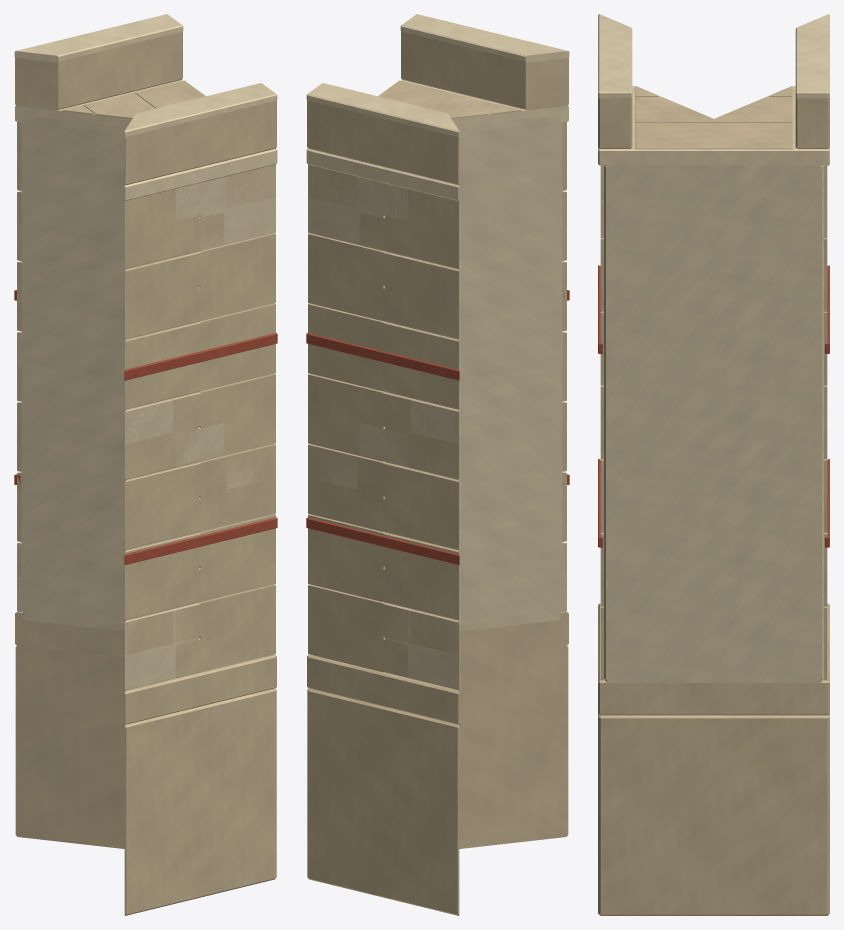
Rendered from verona_gate_crossing_diagonal_link.glb.
The picture shows the model from 3 angles, left to right: view 1: azimuth 30°, elevation 25°; view 2: azimuth 150°, elevation 25°; view 3: azimuth 270°, elevation 25°; orthographic projection. The views are drawn at different scales.
Visible parts, largest first — view 1: Travertine.001, Limewash.001, Travertine.002, Limestone_trim.001, Limewash.002, Pompeian_red.001; view 2: Travertine.001, Limewash.001, Travertine.002, Limestone_trim.001, Limewash.002, Pompeian_red.001; view 3: Limewash.001, Travertine.001, Limestone_trim.001, Travertine.002, Pompeian_red.001, Limewash.002.
Boxes of the visible parts, x1=… form: Travertine.001: x1=15, y1=31, x2=276, y2=915; Limewash.001: x1=17, y1=115, x2=275, y2=690; Travertine.002: x1=17, y1=122, x2=275, y2=672; Limestone_trim.001: x1=14, y1=14, x2=277, y2=200; Limewash.002: x1=17, y1=164, x2=275, y2=688; Pompeian_red.001: x1=14, y1=290, x2=277, y2=565; Travertine.001: x1=307, y1=31, x2=568, y2=915; Limewash.001: x1=308, y1=115, x2=566, y2=690; Travertine.002: x1=308, y1=123, x2=566, y2=672; Limestone_trim.001: x1=306, y1=14, x2=569, y2=200; Limewash.002: x1=308, y1=164, x2=566, y2=690; Pompeian_red.001: x1=306, y1=290, x2=569, y2=565; Limewash.001: x1=601, y1=160, x2=826, y2=682; Travertine.001: x1=598, y1=86, x2=829, y2=915; Limestone_trim.001: x1=598, y1=14, x2=829, y2=165; Travertine.002: x1=600, y1=238, x2=827, y2=680; Pompeian_red.001: x1=598, y1=265, x2=829, y2=547; Limewash.002: x1=600, y1=165, x2=827, y2=237.
Bounding box in the file's own units: 1.85 × 9.03 × 2.3.
Materials: 4 (4 with a texture image).
